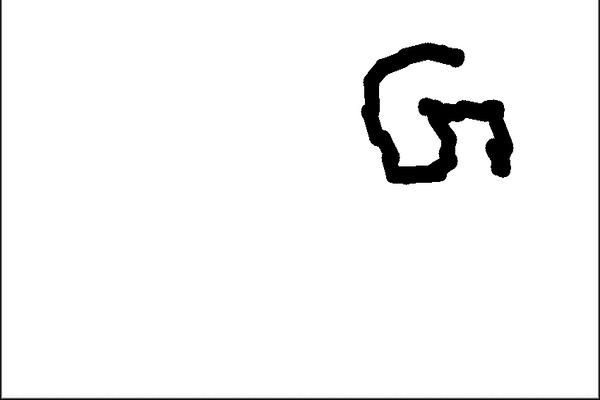G: (356, 38, 517, 191)
